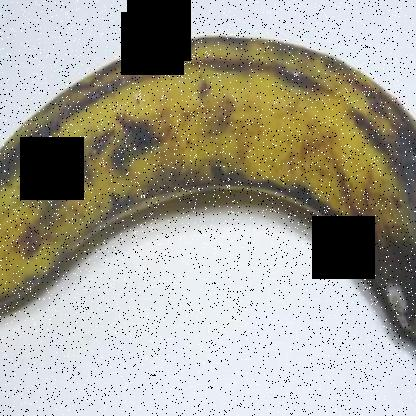overripe: (1, 25, 415, 376)
rotten: (341, 124, 415, 347)
